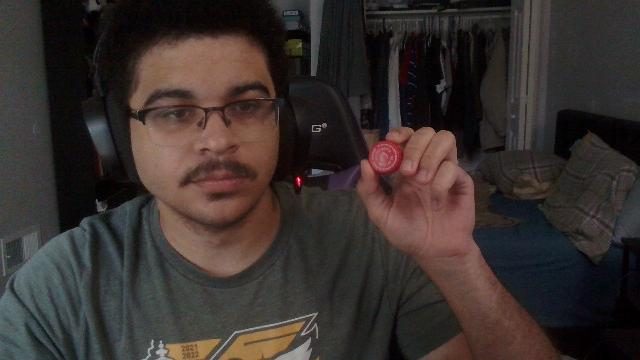cap: (369, 140, 403, 176)
